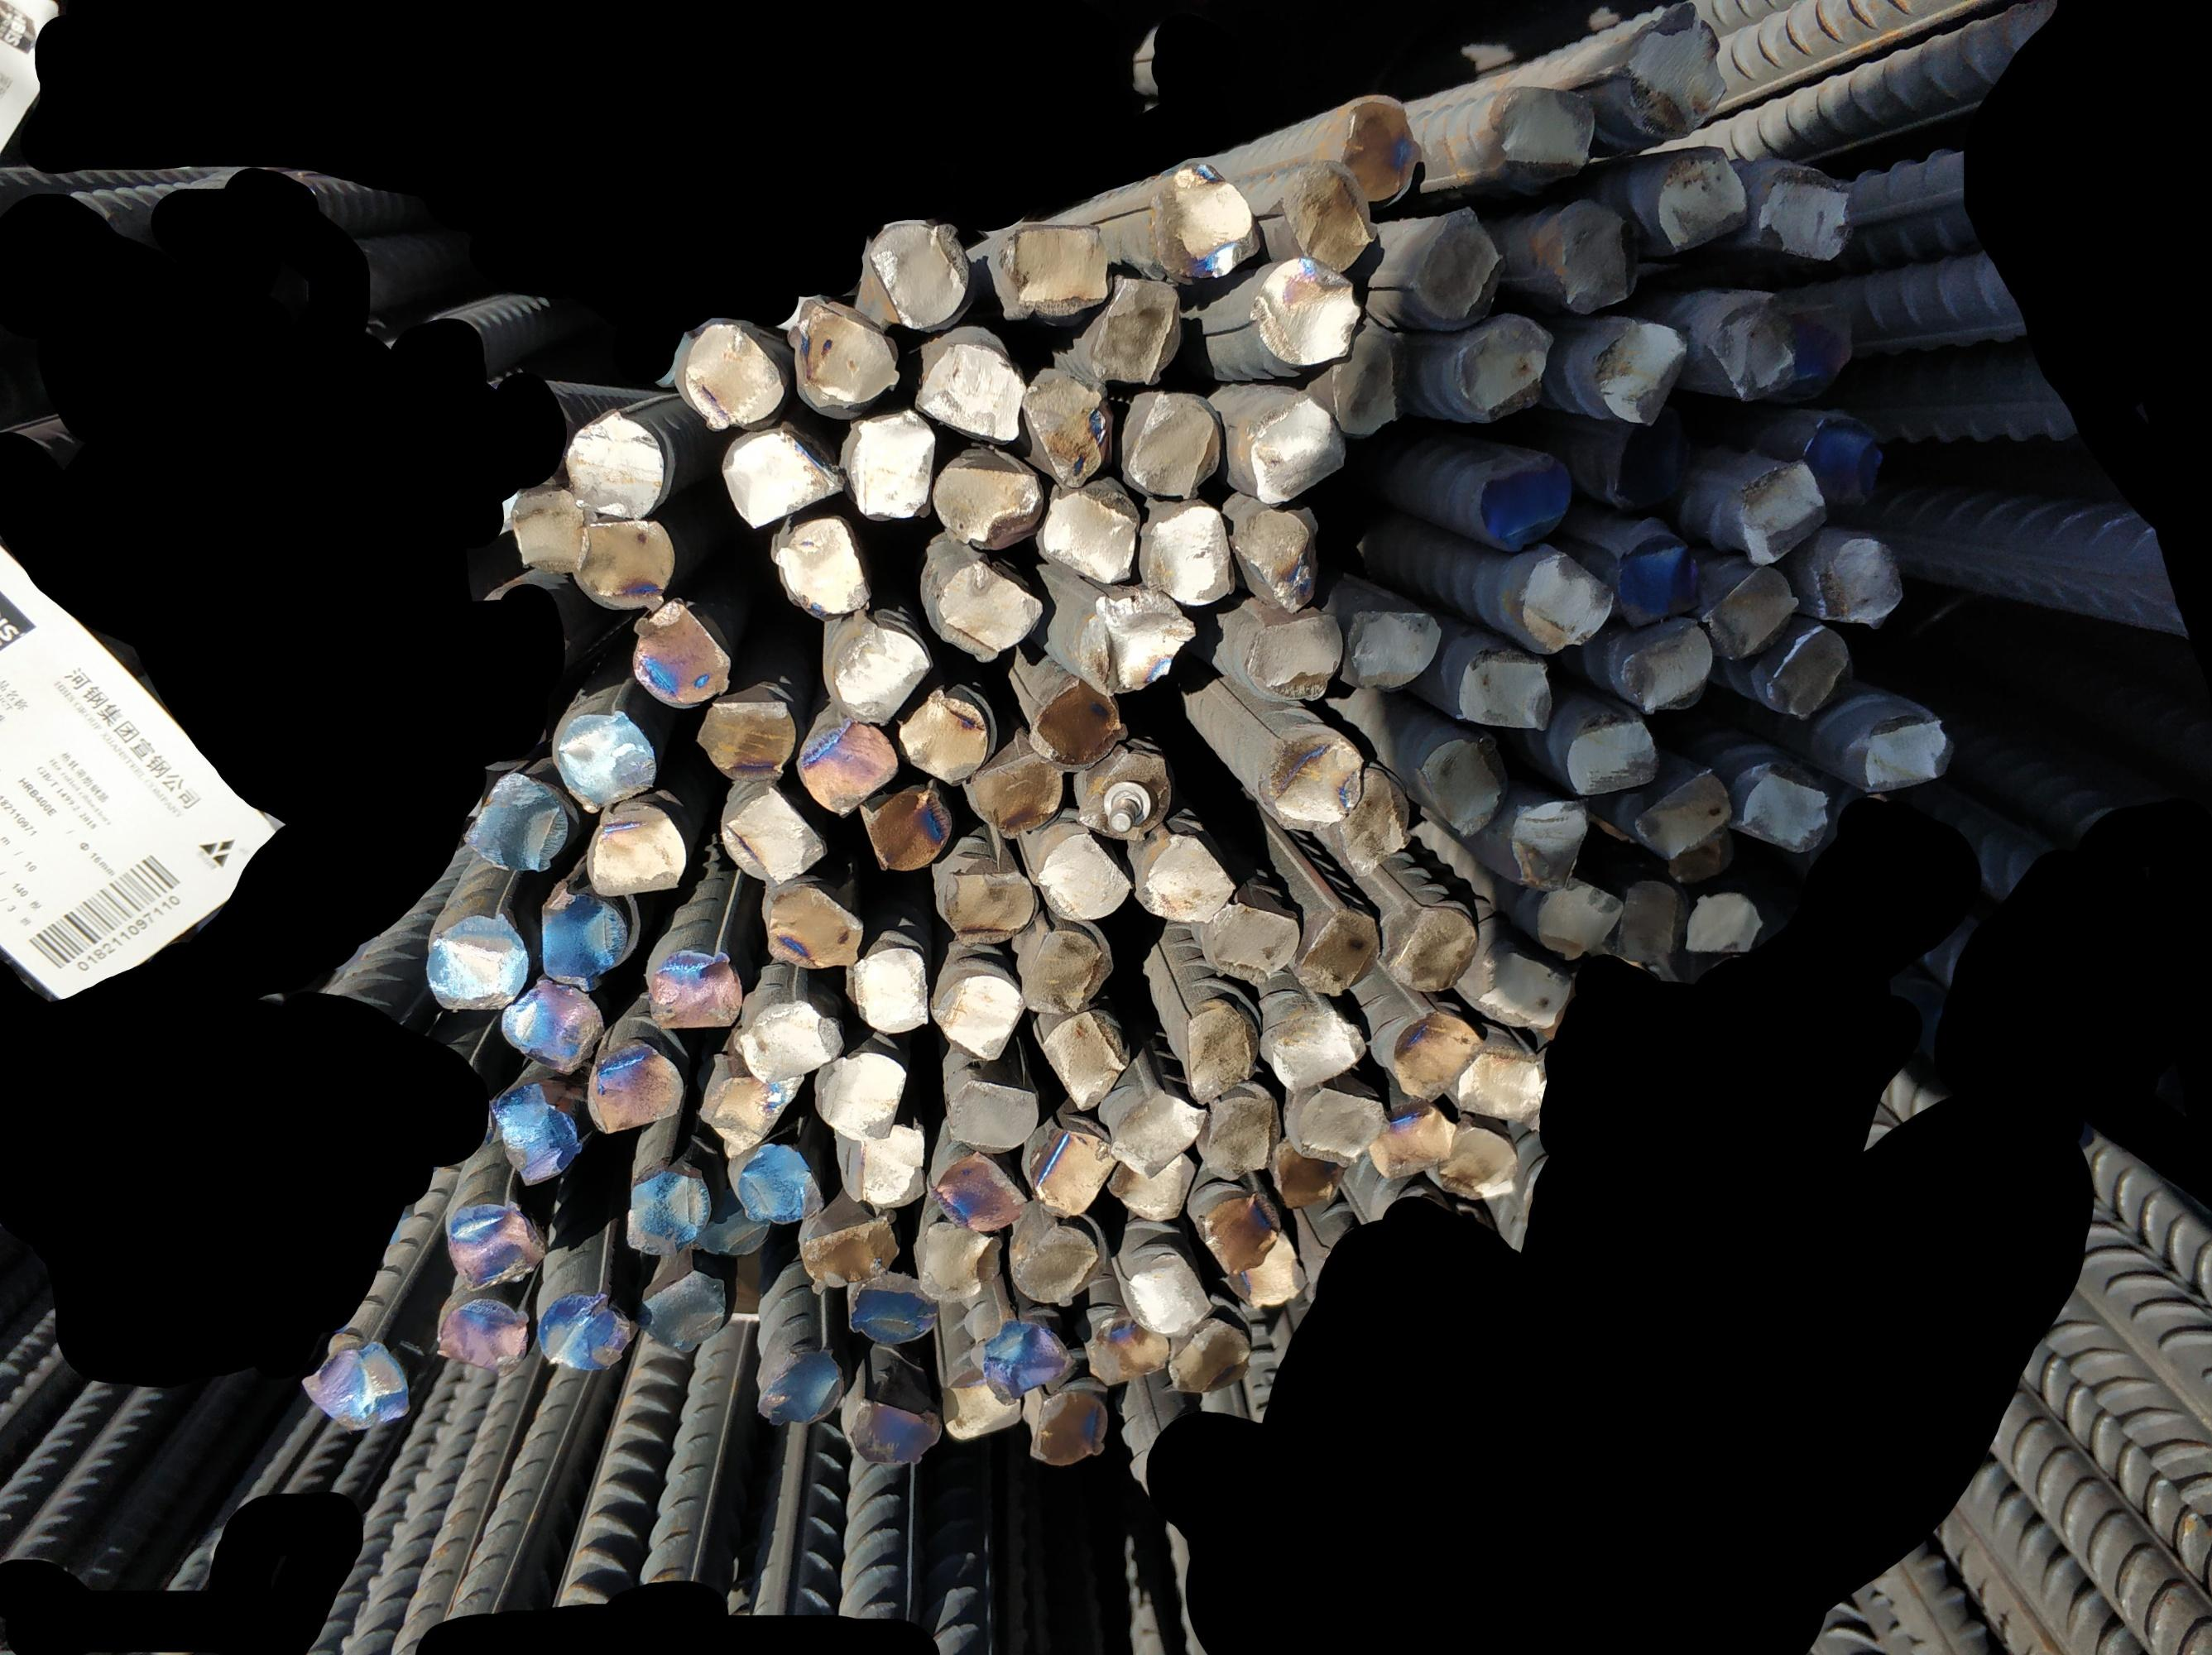bar: (1619, 0, 1729, 139), (1147, 155, 1263, 278), (785, 290, 905, 409), (721, 422, 846, 534), (1399, 207, 1508, 334), (1249, 256, 1368, 370), (1531, 193, 1639, 318), (862, 209, 971, 329), (820, 608, 933, 723), (912, 330, 1025, 445), (1274, 155, 1381, 275), (1239, 388, 1347, 508), (1077, 584, 1199, 690), (928, 442, 1043, 551), (1652, 134, 1753, 257), (930, 556, 1043, 664), (1037, 475, 1143, 589), (996, 219, 1116, 320), (1449, 309, 1553, 424), (565, 405, 667, 520), (553, 706, 660, 814), (959, 723, 1063, 834), (679, 322, 785, 429), (1260, 723, 1366, 831), (1732, 457, 1835, 568), (1592, 316, 1691, 431), (1086, 269, 1183, 386), (1022, 370, 1116, 490), (1470, 449, 1576, 555), (426, 907, 530, 1014), (770, 516, 876, 621), (499, 974, 608, 1074), (838, 409, 937, 520), (1124, 386, 1223, 497), (1752, 162, 1856, 266), (631, 596, 732, 704), (302, 1335, 414, 1432), (462, 770, 566, 873), (798, 715, 898, 819), (1143, 499, 1239, 608), (721, 786, 825, 885), (1070, 741, 1175, 840), (1493, 82, 1599, 179), (1795, 414, 1892, 520), (586, 1036, 686, 1137), (1519, 551, 1616, 655), (756, 876, 862, 972), (1706, 292, 1795, 405), (1614, 617, 1715, 716), (1633, 761, 1731, 864), (1027, 673, 1131, 768), (568, 516, 676, 608), (1340, 89, 1425, 205), (1235, 499, 1321, 615), (441, 1200, 547, 1292), (700, 1064, 806, 1156), (537, 883, 627, 991), (587, 800, 686, 897), (1109, 1083, 1208, 1180), (1034, 1008, 1133, 1106), (1241, 610, 1341, 706), (1607, 528, 1701, 631), (1451, 643, 1555, 735), (1029, 827, 1129, 921), (1023, 1120, 1116, 1222), (1411, 735, 1503, 838), (492, 1081, 580, 1187), (1595, 422, 1701, 511), (1326, 767, 1411, 876), (1143, 827, 1241, 923), (860, 777, 959, 871), (898, 681, 990, 782), (1856, 720, 1960, 808), (695, 692, 798, 781), (737, 996, 844, 1080), (1811, 534, 1906, 628), (1324, 320, 1401, 436), (1336, 603, 1440, 688), (1117, 1245, 1213, 1337), (1385, 901, 1477, 996), (1204, 901, 1301, 991), (1267, 1003, 1366, 1092), (1180, 998, 1260, 1107), (798, 1206, 900, 1292), (933, 864, 1039, 946), (509, 483, 601, 577), (813, 1050, 905, 1144), (1706, 565, 1798, 659), (1767, 621, 1854, 720), (533, 1286, 634, 1372), (730, 1140, 827, 1227), (839, 1120, 931, 1210), (1023, 923, 1109, 1020), (645, 946, 744, 1029), (933, 972, 1023, 1062), (1534, 873, 1626, 961), (626, 1161, 711, 1257), (1564, 716, 1661, 800), (978, 1319, 1077, 1401), (1739, 763, 1828, 854), (1394, 1008, 1480, 1100), (935, 1149, 1030, 1233), (434, 1295, 532, 1377), (942, 1078, 1043, 1156), (756, 1344, 846, 1431), (1293, 904, 1376, 998), (1508, 794, 1588, 892), (1472, 947, 1571, 1026), (1010, 1219, 1098, 1306), (1103, 1142, 1197, 1224), (1451, 1040, 1545, 1121), (1197, 1092, 1282, 1180), (916, 1217, 1003, 1302), (1439, 1116, 1522, 1205), (1291, 1087, 1385, 1165), (641, 1262, 726, 1347), (848, 944, 930, 1033), (844, 1394, 947, 1464), (846, 1271, 938, 1347), (1197, 1189, 1281, 1273), (1371, 1097, 1453, 1182), (1258, 1135, 1350, 1210), (1025, 1386, 1109, 1467), (1781, 296, 1852, 391), (1169, 1318, 1253, 1398), (1083, 1311, 1173, 1384), (1235, 1226, 1312, 1311), (1614, 876, 1684, 968), (697, 1182, 775, 1262), (1684, 888, 1762, 958), (933, 1379, 1022, 1439)
